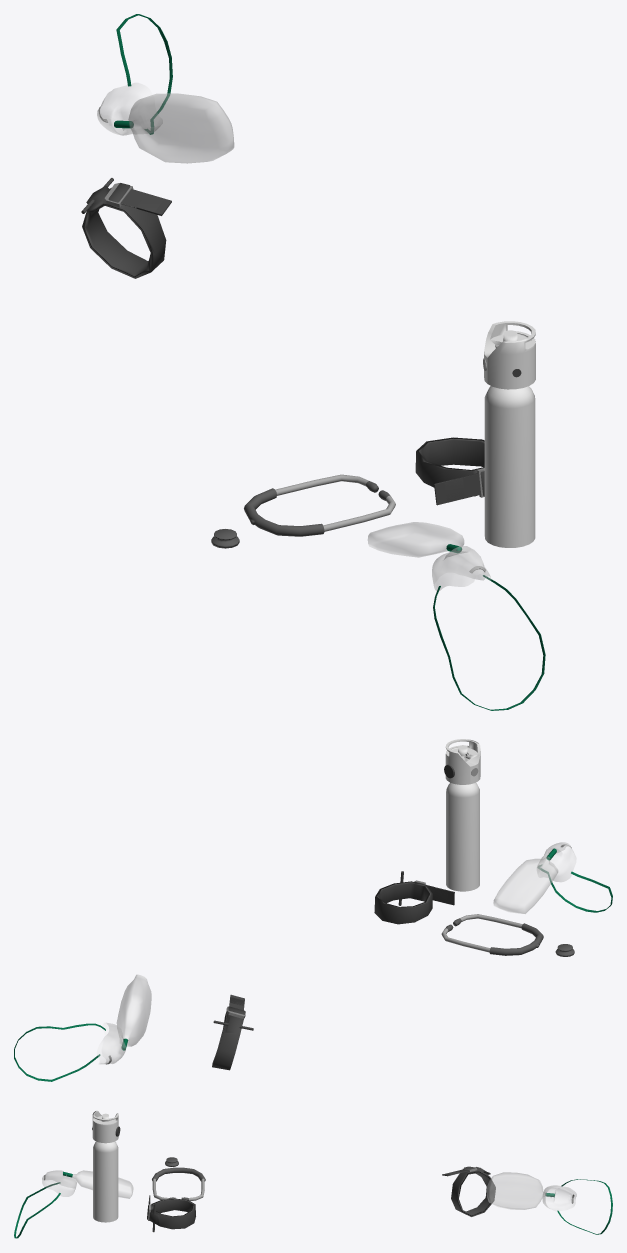
The model's file is Inventory.fbx.
3 renders of one model, top to bottom at view 1: azimuth 30°, elevation 25°; view 2: azimuth 150°, elevation 25°; view 3: azimuth 270°, elevation 25°, orthographic. The views are drawn at different scales.
Visible parts, largest first — view 1: MainCannister, Reservoir (×2), TourniquetBase (×2), MainMask (×2), Stetoscope_Upper; view 2: MainCannister, Reservoir (×2), TourniquetBase (×2), MainMask (×2), Stetoscope_Upper, Strap; view 3: MainCannister, Reservoir (×2), TourniquetBase (×2), MainMask (×2), Strap (×2), Stetoscope_Upper.
Part boxes in pixels (x1=…): MainCannister: x1=484, y1=321, x2=535, y2=547; Reservoir (×2): x1=128, y1=93, x2=464, y2=557; TourniquetBase (×2): x1=82, y1=183, x2=484, y2=502; MainMask (×2): x1=97, y1=83, x2=491, y2=590; Stetoscope_Upper: x1=244, y1=474, x2=395, y2=536; MainCannister: x1=445, y1=739, x2=480, y2=891; Reservoir (×2): x1=116, y1=857, x2=558, y2=1046; TourniquetBase (×2): x1=212, y1=881, x2=447, y2=1070; MainMask (×2): x1=97, y1=842, x2=576, y2=1064; Stetoscope_Upper: x1=441, y1=914, x2=543, y2=955; Strap: x1=14, y1=1023, x2=105, y2=1081; MainCannister: x1=92, y1=1110, x2=118, y2=1222; Reservoir (×2): x1=72, y1=1170, x2=545, y2=1209; TourniquetBase (×2): x1=147, y1=1166, x2=495, y2=1229; MainMask (×2): x1=42, y1=1170, x2=576, y2=1211; Strap (×2): x1=14, y1=1179, x2=612, y2=1238; Stetoscope_Upper: x1=152, y1=1167, x2=205, y2=1200.
Bounding box in the file's own units: 69.82 × 48.76 × 183.
